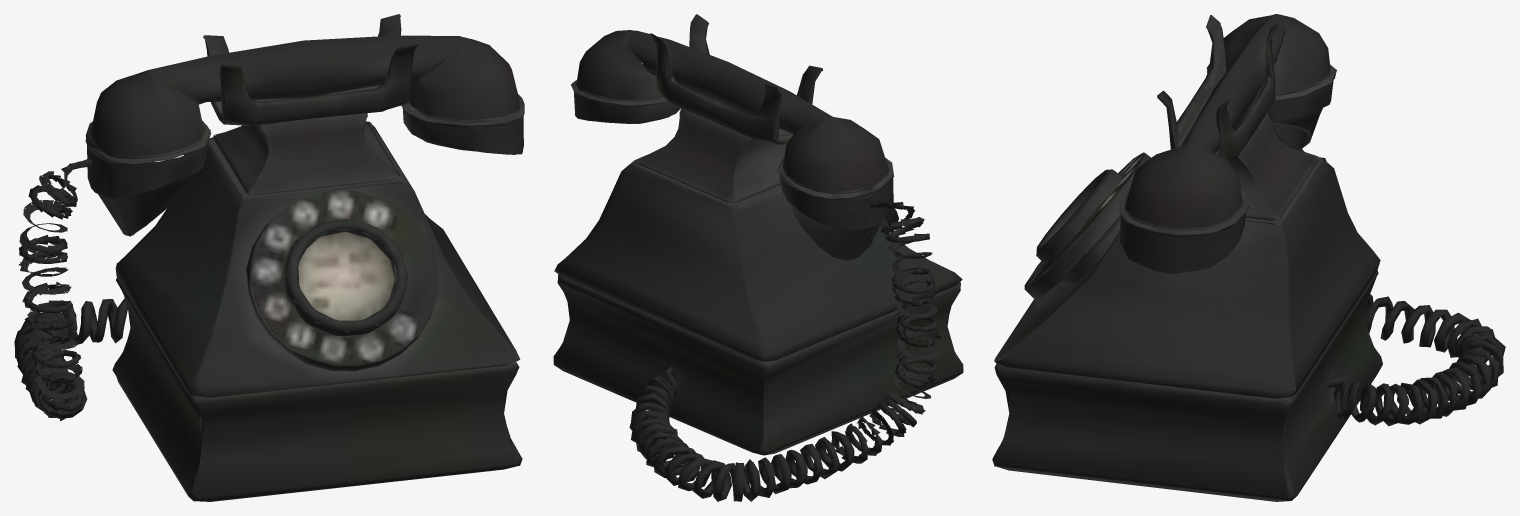
Rendered from d_telefono_negro.glb.
The picture shows the model from 3 angles, left to right: view 1: azimuth 30°, elevation 25°; view 2: azimuth 150°, elevation 25°; view 3: azimuth 270°, elevation 25°; orthographic projection. The views are drawn at different scales.
Visible parts, largest first — view 1: Object032_Material #127_0; view 2: Object032_Material #127_0; view 3: Object032_Material #127_0.
Part boxes in pixels (left/top/right/bottom): Object032_Material #127_0: left=14, top=14, right=524, bottom=501; Object032_Material #127_0: left=553, top=14, right=963, bottom=501; Object032_Material #127_0: left=992, top=14, right=1505, bottom=501.
Bounding box in the file's own units: 0.2463 × 0.2002 × 0.2502.
Materials: 1 (1 with a texture image).
